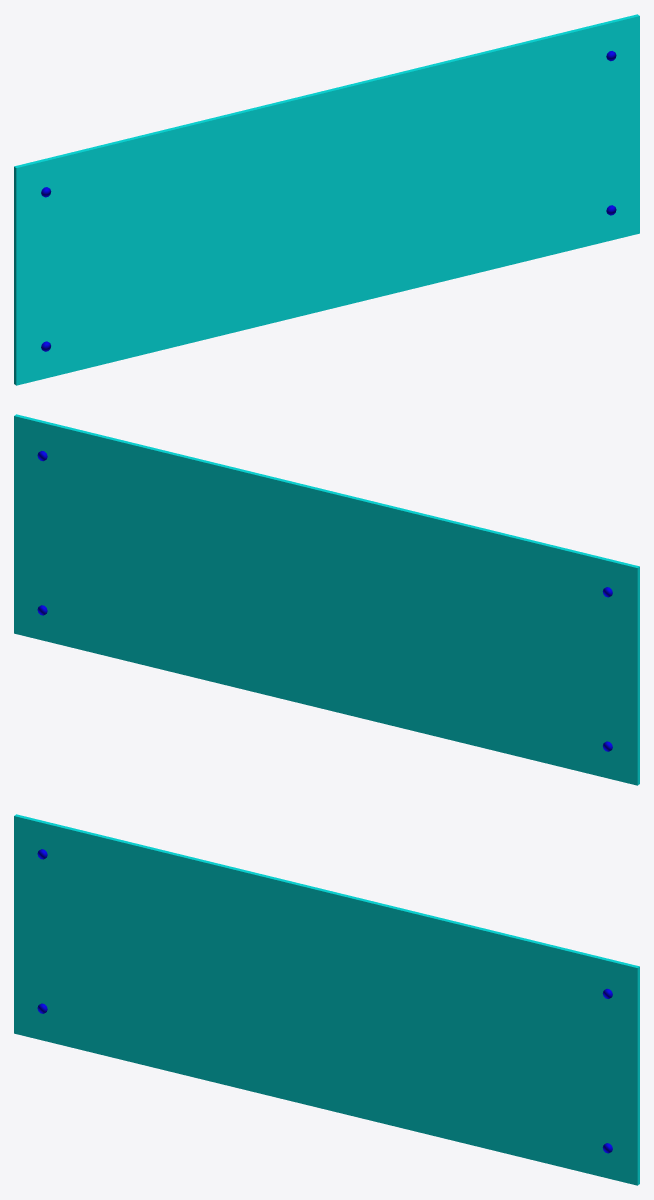
File: cuadro_04_low.fbx
3 views of the same model, one above another, from view 1: azimuth 30°, elevation 25°; view 2: azimuth 150°, elevation 25°; view 3: azimuth 330°, elevation 25° (orthographic).
Visible parts, largest first — view 1: pCube1; view 2: pCube1; view 3: pCube1.
Part boxes in pixels (x1,y1,x2,y2): pCube1: (14,14,639,385); pCube1: (14,414,639,785); pCube1: (14,814,639,1185).
Bounding box in the file's own units: 150 × 50 × 2.
